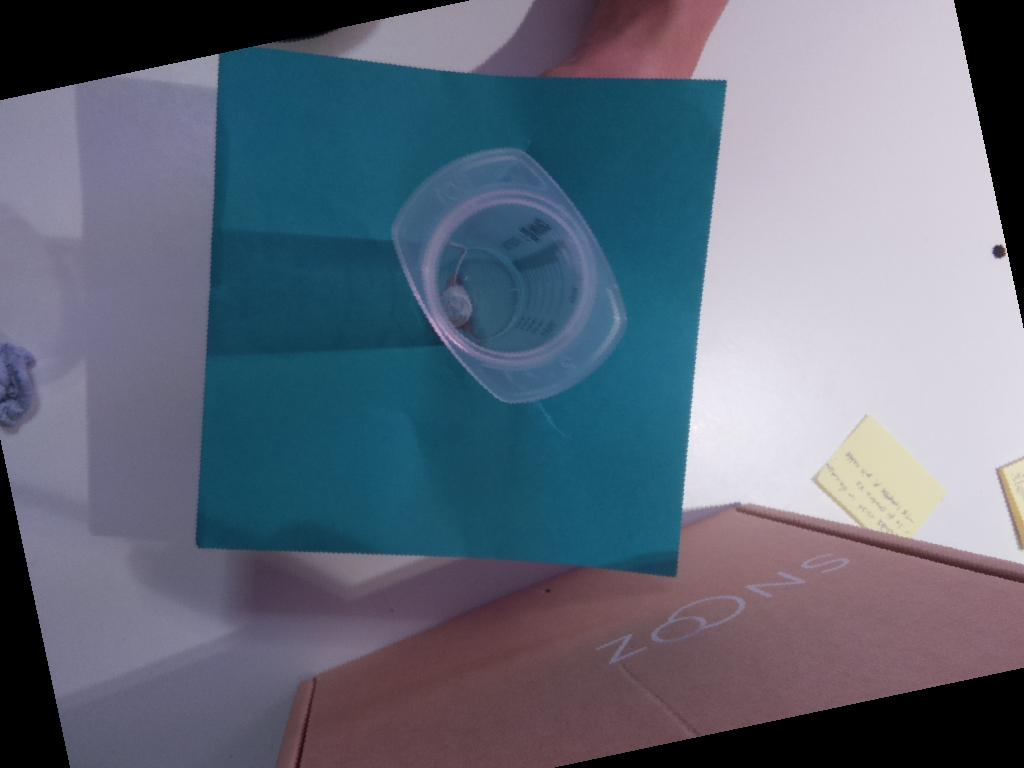clean: (391, 147, 628, 404)
